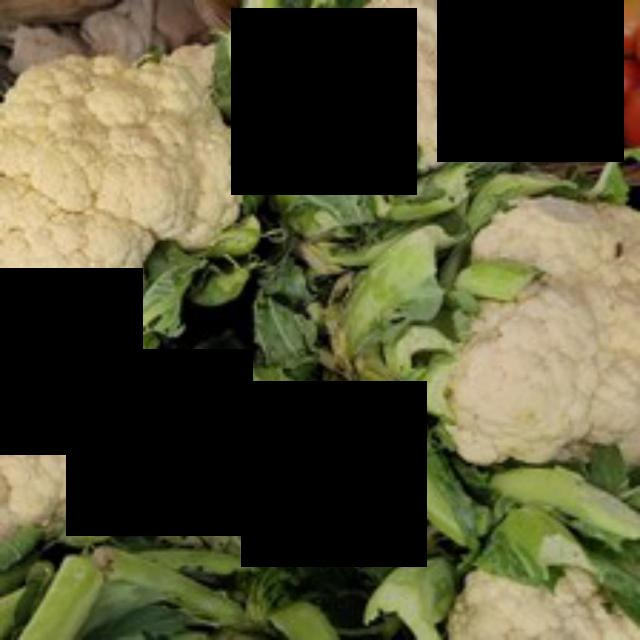cauliflower: (1, 40, 258, 343), (443, 183, 637, 471)
